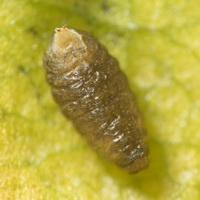insect: (44, 26, 147, 172)
